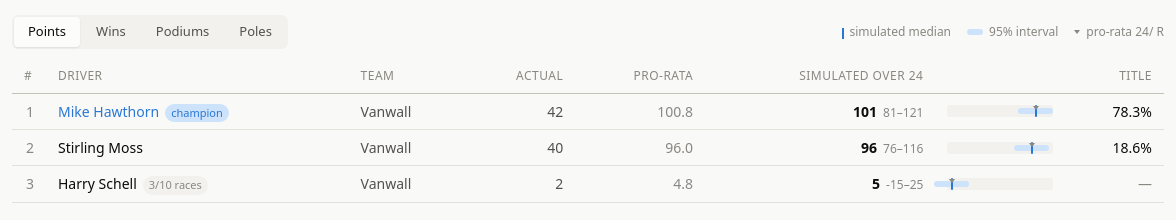
Test: StandingsTable › sorts by the selected metric, not by a fixed order
Click the tab "Wins" at (111, 32), box [82,17,140,46]
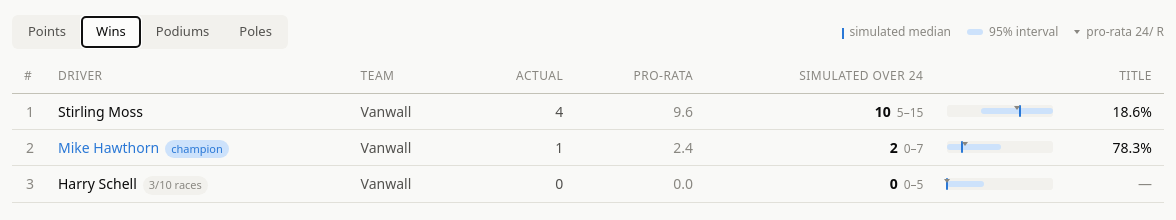
Now the link "Stirling Moss" is shown, box [58,102,143,120]
